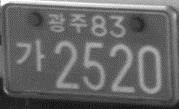0: (136, 43, 165, 97)
2: (53, 39, 79, 92), (109, 43, 136, 93)
3: (109, 14, 125, 40)
5: (81, 42, 106, 90)
8: (90, 13, 108, 38)
가: (15, 40, 46, 73)
광주_O: (47, 13, 88, 35)
